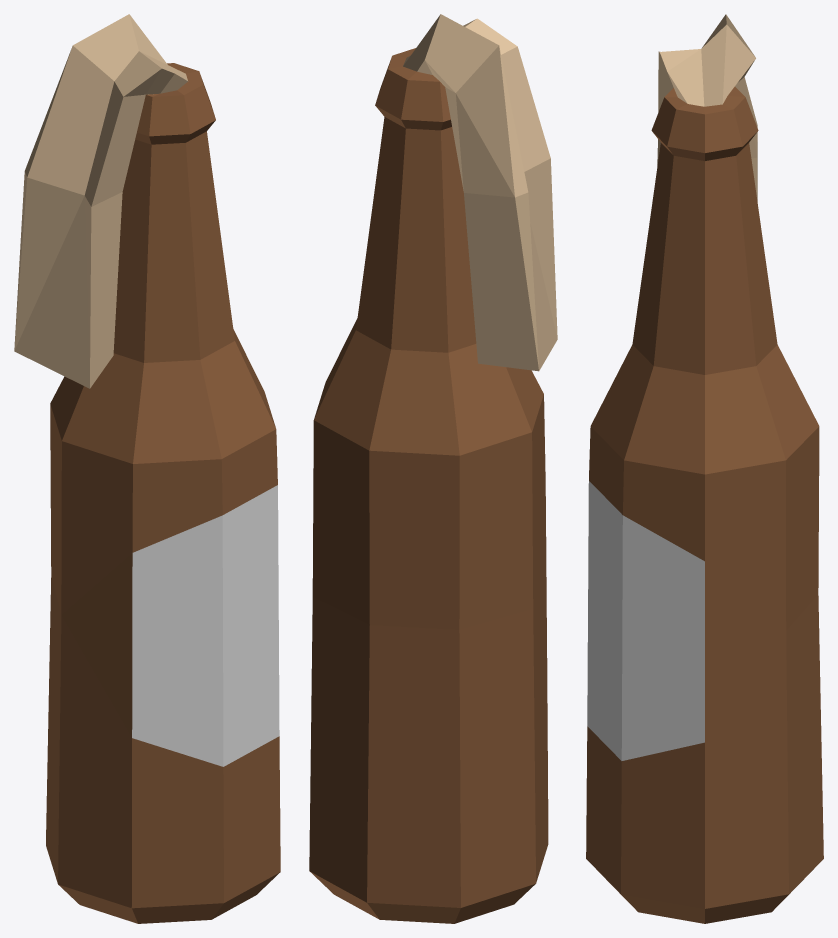
The model's file is weapons-molotov.glb.
3 views of the same model, side by side, from view 1: azimuth 30°, elevation 25°; view 2: azimuth 150°, elevation 25°; view 3: azimuth 270°, elevation 25° (orthographic). The views are drawn at different scales.
Visible parts, largest first — view 1: SM_Molotov; view 2: SM_Molotov; view 3: SM_Molotov.
Boxes of the visible parts, bbox=[...] form: SM_Molotov: bbox=[14, 14, 280, 923]; SM_Molotov: bbox=[309, 14, 557, 923]; SM_Molotov: bbox=[586, 14, 823, 923].
Bounding box in the file's own units: 0.0802 × 0.2843 × 0.0722.
